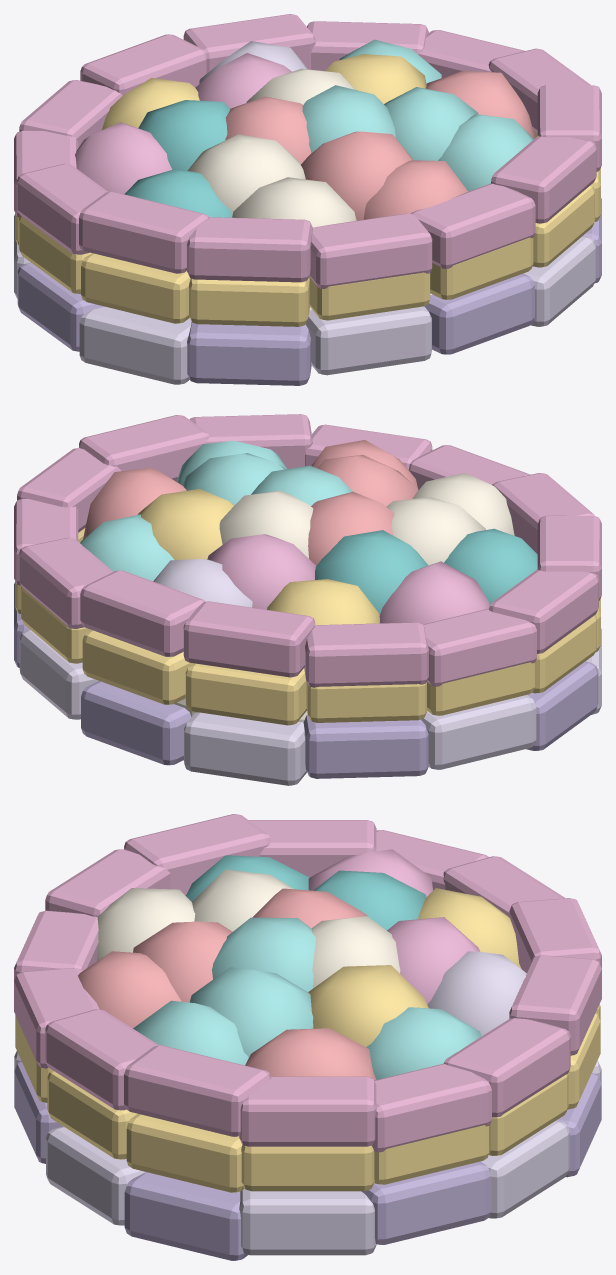
Rendered from lagoon_play_sandbox.glb.
The picture shows the model from 3 angles, top to bottom: view 1: azimuth 30°, elevation 25°; view 2: azimuth 150°, elevation 25°; view 3: azimuth 270°, elevation 25°; orthographic projection. The views are drawn at different scales.
Parts seen in each view (by area): view 1: lagoon_play_sandbox.001; view 2: lagoon_play_sandbox.001; view 3: lagoon_play_sandbox.001.
Boxes of the visible parts, x1,y1,x2,y2 form: lagoon_play_sandbox.001: (14, 14, 601, 385); lagoon_play_sandbox.001: (14, 414, 601, 785); lagoon_play_sandbox.001: (14, 814, 601, 1260).
Size of the model in its own units: 6.82 by 2.37 by 5.9.
